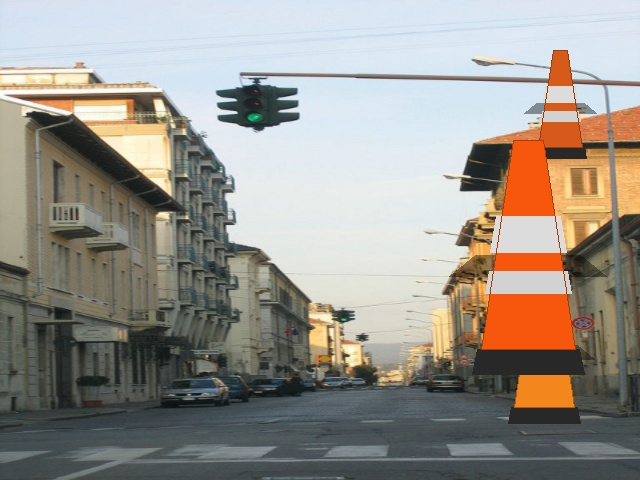traffic-cone: (472, 140, 584, 374), (508, 270, 580, 423), (534, 50, 586, 158)
